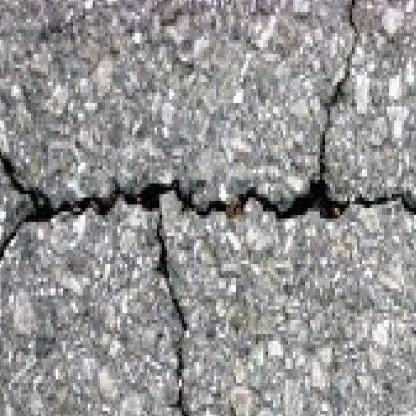Cracks: (0, 0, 416, 336), (166, 344, 195, 416)
